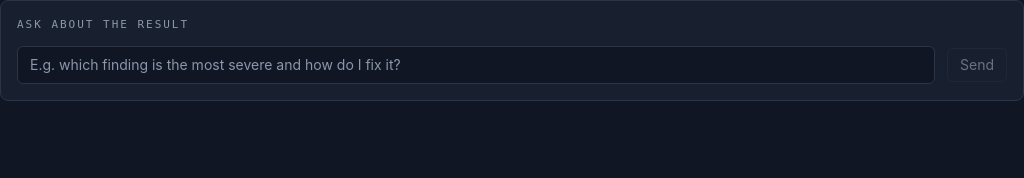
Test case: ChatDock › UI-02: envia a pergunta e mostra pergunta + resposta em Markdown
Type "Qual o mais grave?" into the field named "Question about the result" at point(476, 64), box [17,46,935,84]
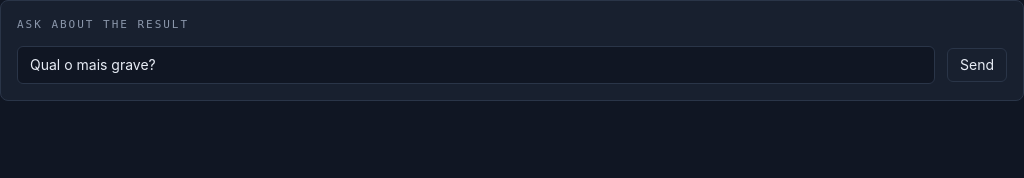
Click the button "Send" at point(977, 64), box [947,48,1007,82]
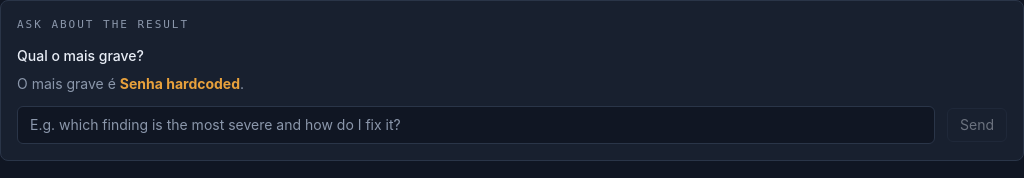
Expected: the field named "Question about the result" is enabled, [17,106,935,144]
Expected: the list item "Qual o mais grave?" is shown, [17,46,144,64]
Expected: the field named "Question about the result" is empty, [17,106,935,144]
